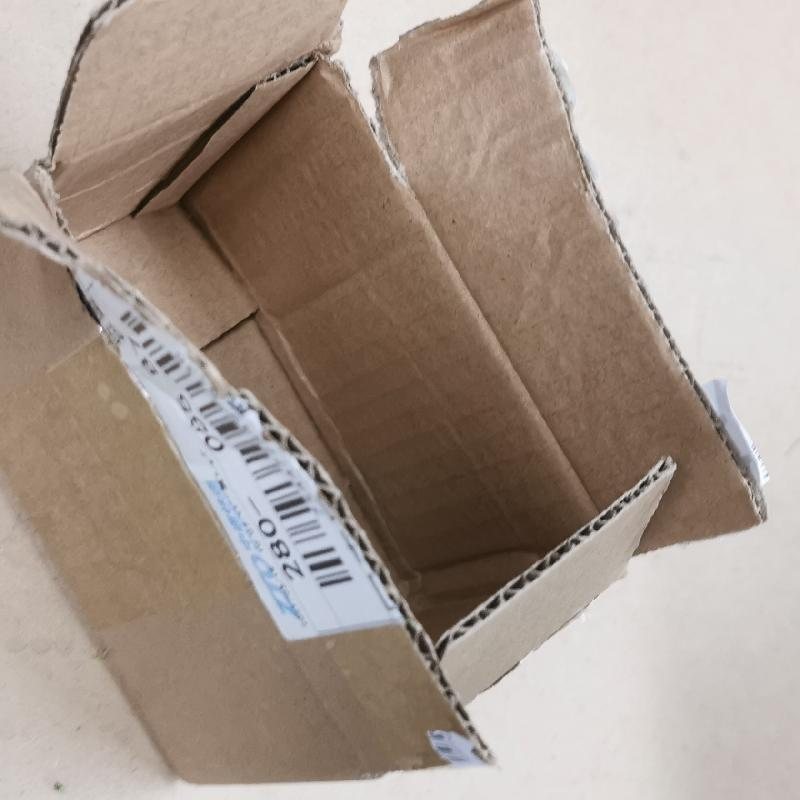boxes: (10, 6, 764, 781)
